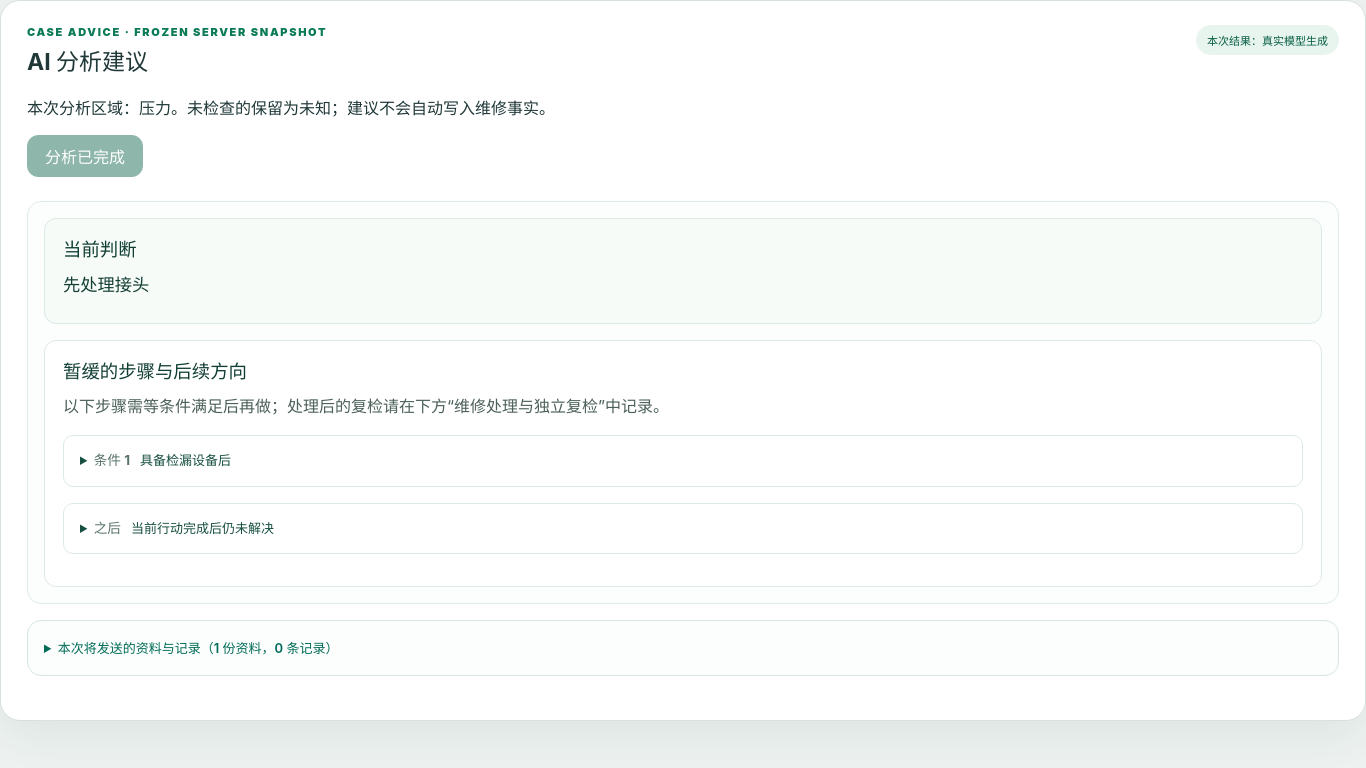
Test: lists only deferred steps after the current actions and leaves retesting to the repair section
Expected: the heading "暂缓的步骤与后续方向" is shown, [63,360,247,382]
Expected: the text "具备检漏设备后" is shown, [140,452,231,468]
Click the text "当前行动完成后仍未解决": (202, 528) [131,520,274,536]
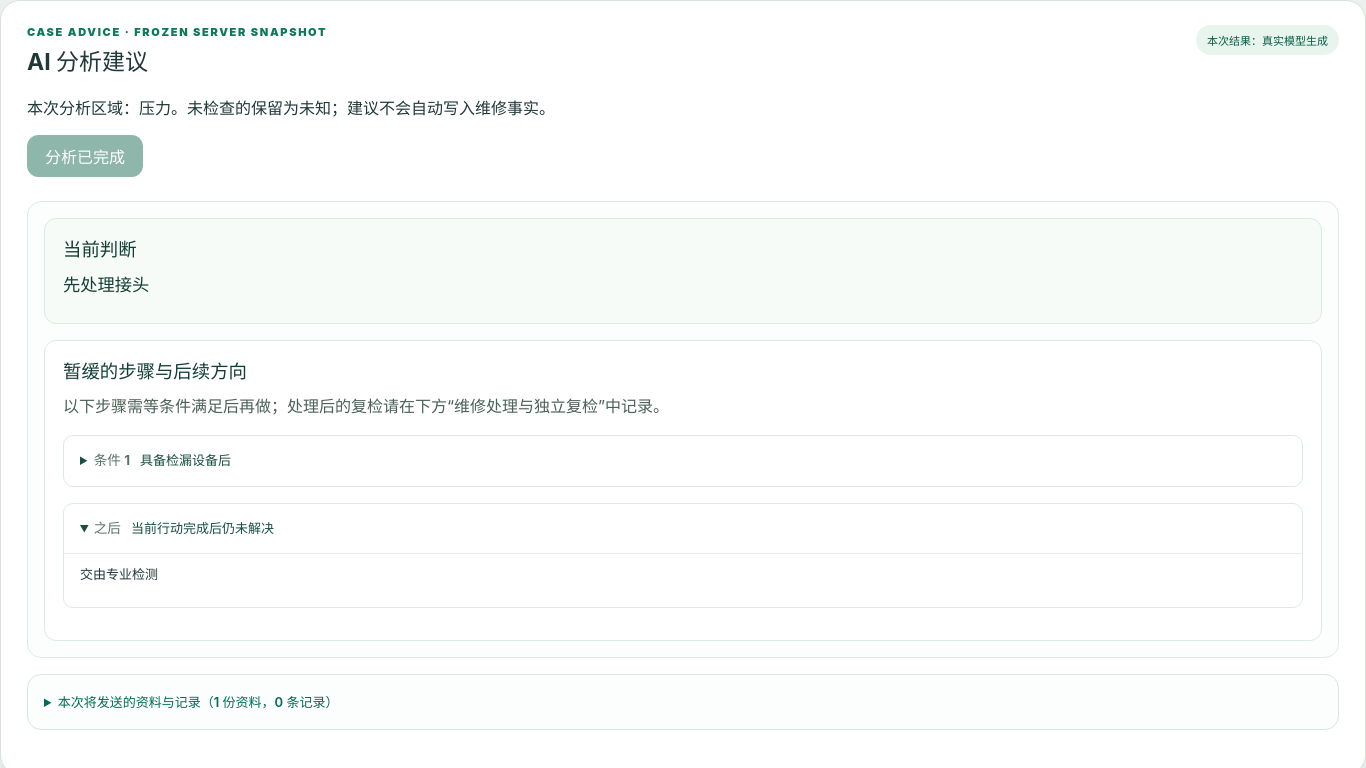
Now the text "交由专业检测" is shown, box [80,566,158,582]
